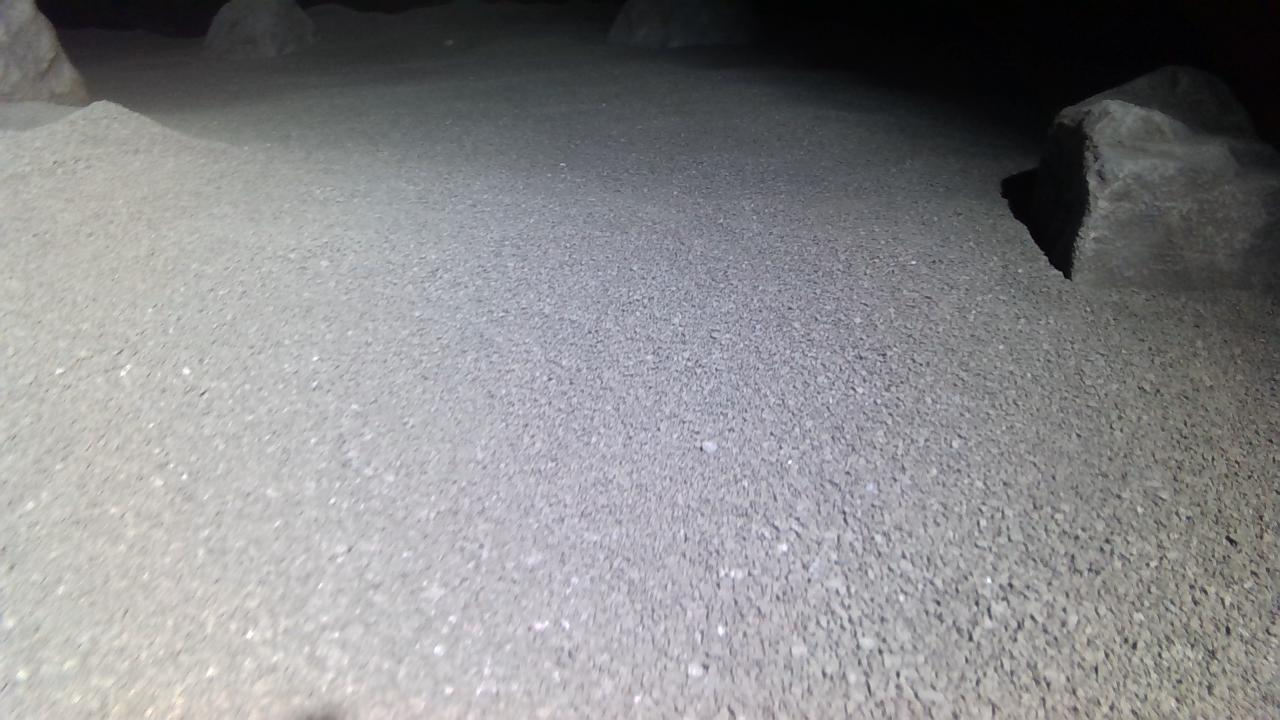rock: (1033, 65, 1280, 294), (0, 0, 87, 103), (608, 0, 757, 47), (203, 0, 313, 57)
